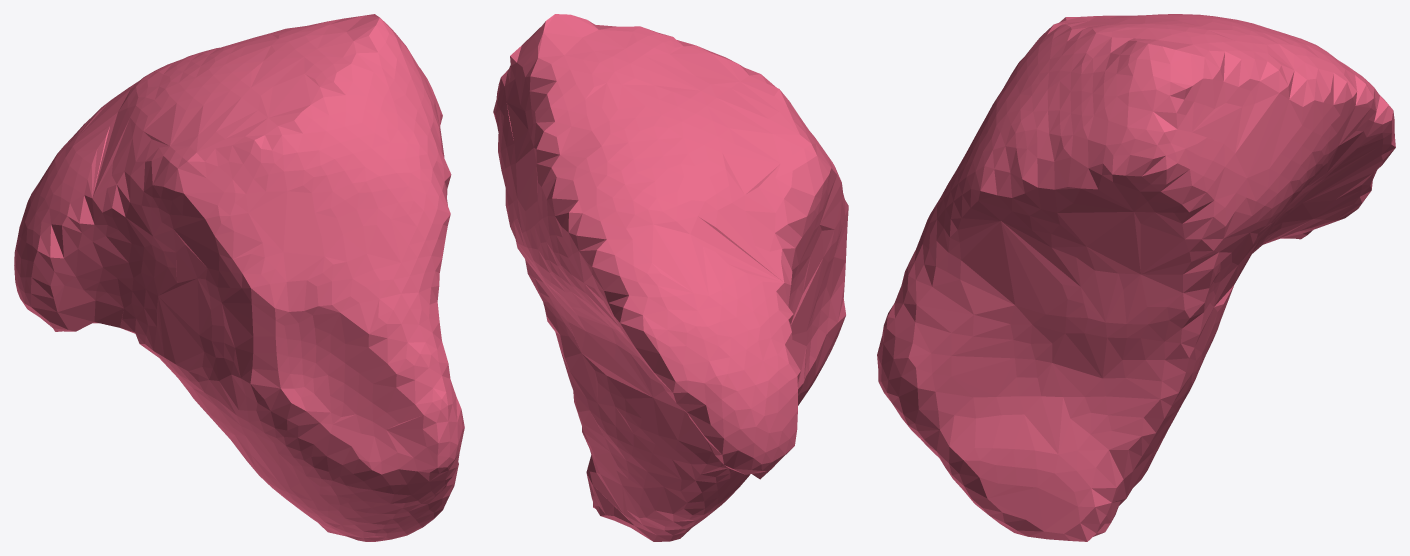
The model's file is Model_206_RH__Basomedial_amygdaloid_nucleus__parvicellular_part_(BMPC).obj.
The picture shows the model from 3 angles, left to right: view 1: azimuth 30°, elevation 25°; view 2: azimuth 150°, elevation 25°; view 3: azimuth 270°, elevation 25°; orthographic projection. The views are drawn at different scales.
Bounding box in the file's own units: 1.91 × 2.59 × 2.37.
